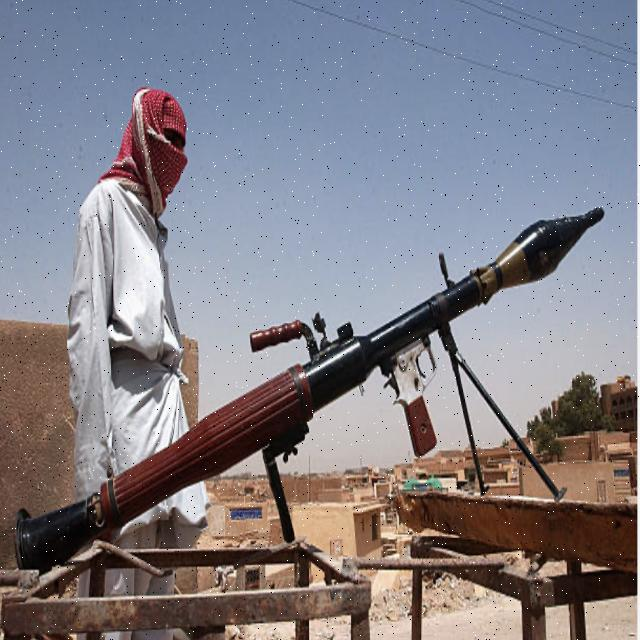bazooka: (8, 201, 616, 590)
